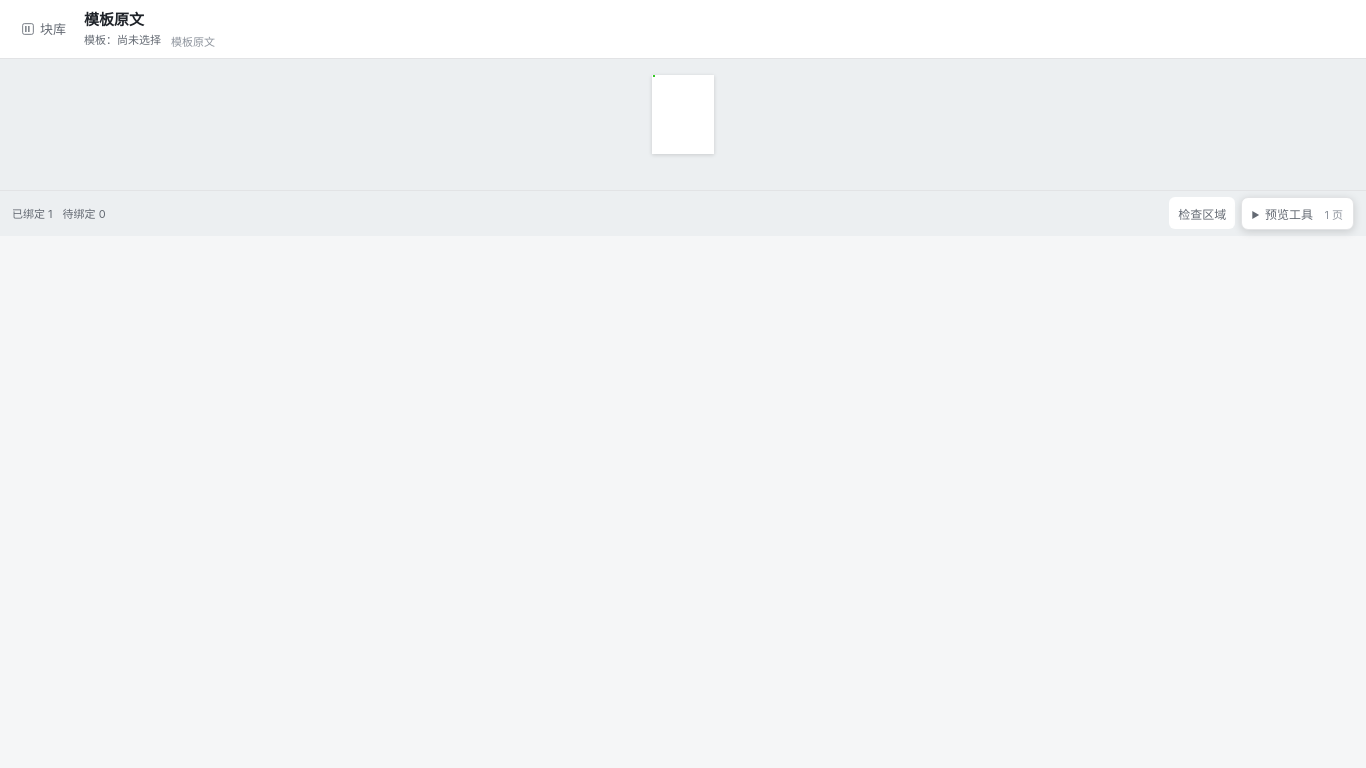
Test case: TemplatePreview 绑定交互（M6a） › 已绑定区域直接显示当前文稿文字，不先弹素材选择框
Click the button with class "bound" at (654, 76), box [652,75,654,77]
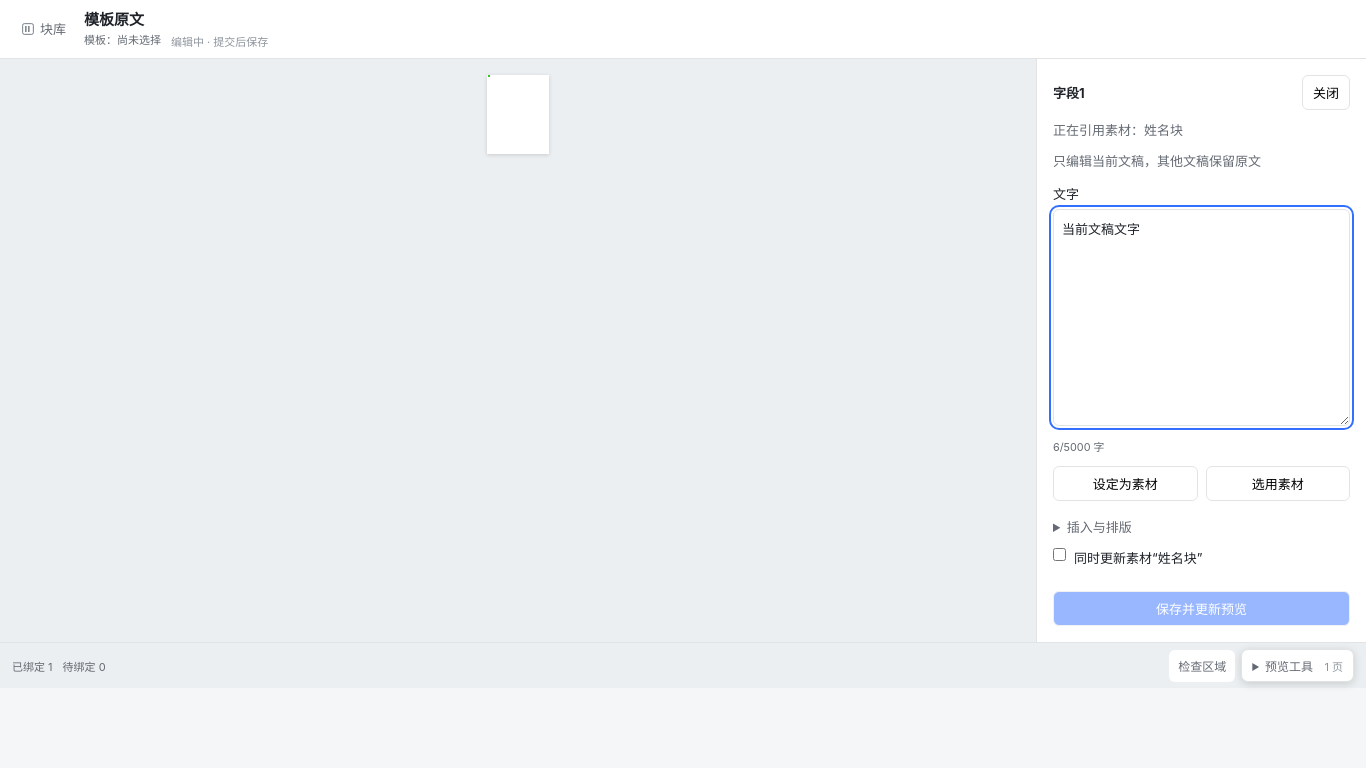
Expected: the text box labelled "文字" holds "当前文稿文字", [1053,210,1350,426]
Expected: the element named "文稿字段编辑" shows "姓名块", [1053,122,1183,138]
